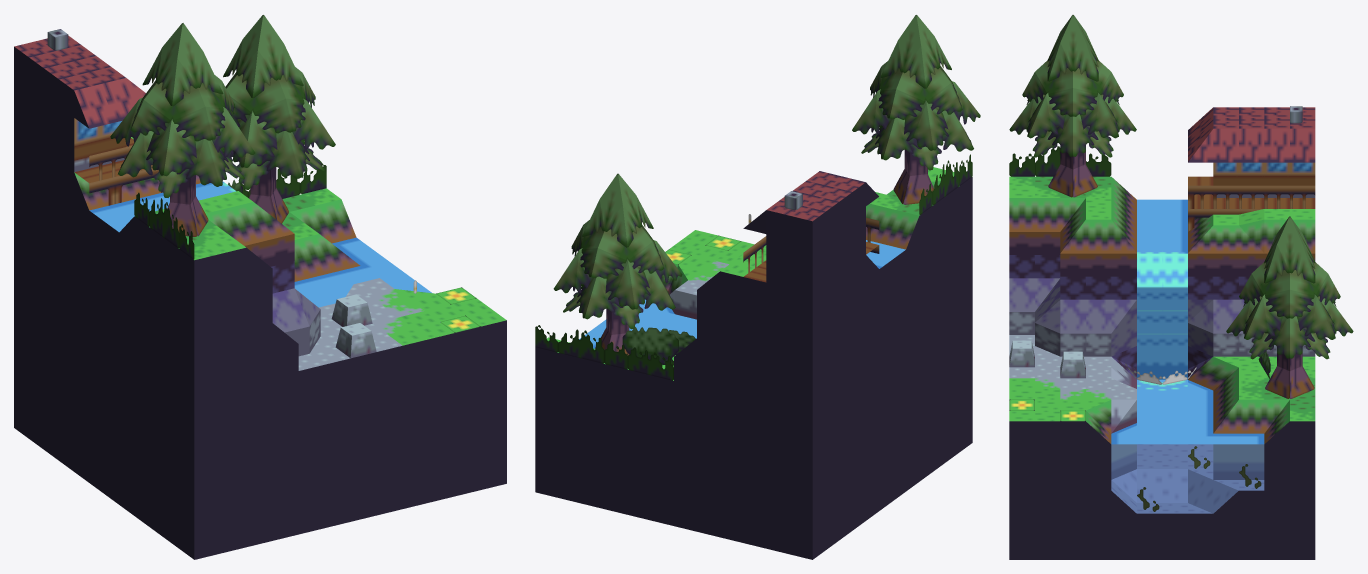
Rendered from waterfall.fbx.
3 renders of one model, left to right at view 1: azimuth 30°, elevation 25°; view 2: azimuth 150°, elevation 25°; view 3: azimuth 270°, elevation 25°, orthographic. The views are drawn at different scales.
Parts seen in each view (by area): view 1: Default; view 2: Default; view 3: Default.
Boxes of the visible parts, <box> form: Default: <box>14,15,506,559</box>; Default: <box>535,15,980,559</box>; Default: <box>1009,15,1353,559</box>.
Bounding box in the file's own units: 72.5 × 92.5 × 67.5.
Materials: 1 (1 with a texture image).
